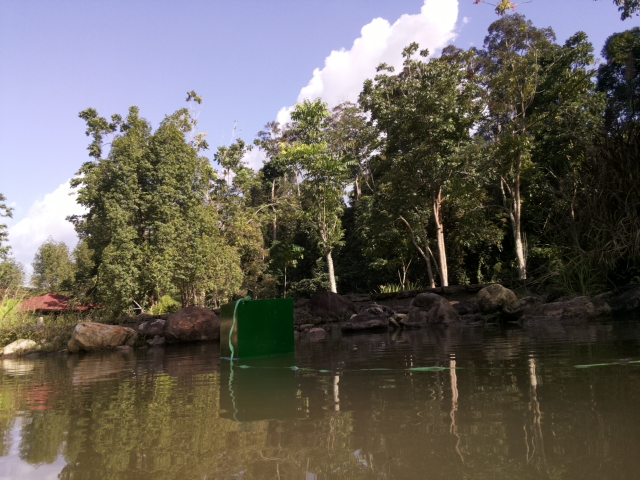obstacle: (456, 360, 483, 403)
